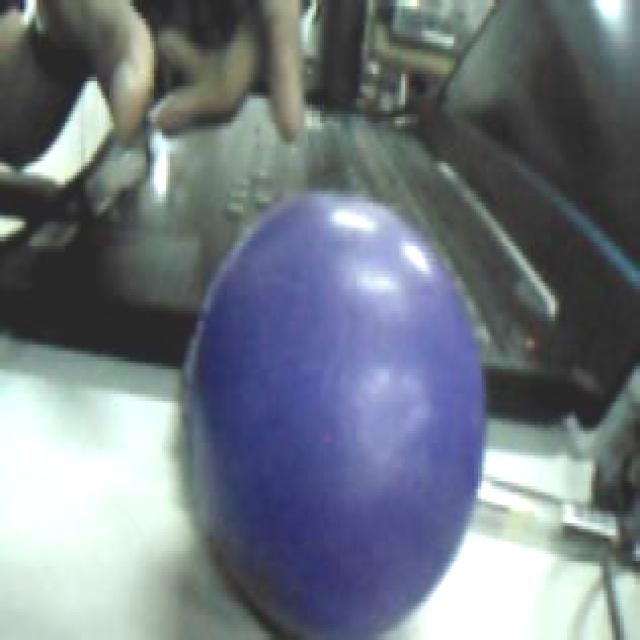BallPurple: (180, 191, 485, 640)
